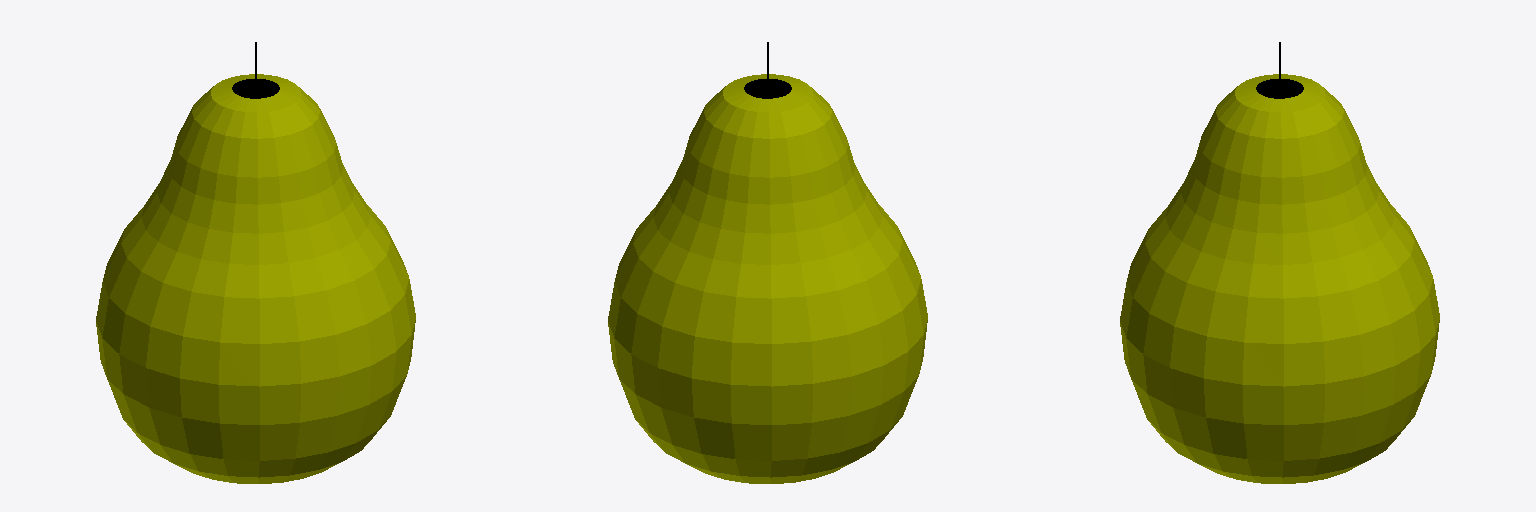
File: pera.obj
The picture shows the model from 3 angles: view 1: azimuth 30°, elevation 25°; view 2: azimuth 150°, elevation 25°; view 3: azimuth 270°, elevation 25°; orthographic projection.
Parts seen in each view (by area): view 1: Mesh1 Group1 Model; view 2: Mesh1 Group1 Model; view 3: Mesh1 Group1 Model.
Part boxes in pixels (x1,y1,x2,y2): Mesh1 Group1 Model: (96,42,415,483); Mesh1 Group1 Model: (608,42,927,483); Mesh1 Group1 Model: (1120,42,1439,483).
Bounding box in the file's own units: 0.1363 × 0.2004 × 0.1363.